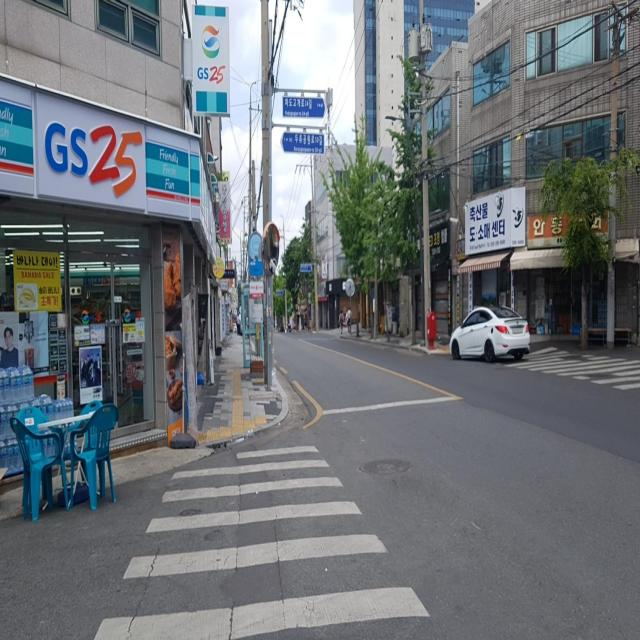횡단보도: (91, 442, 432, 639), (504, 340, 640, 389)
